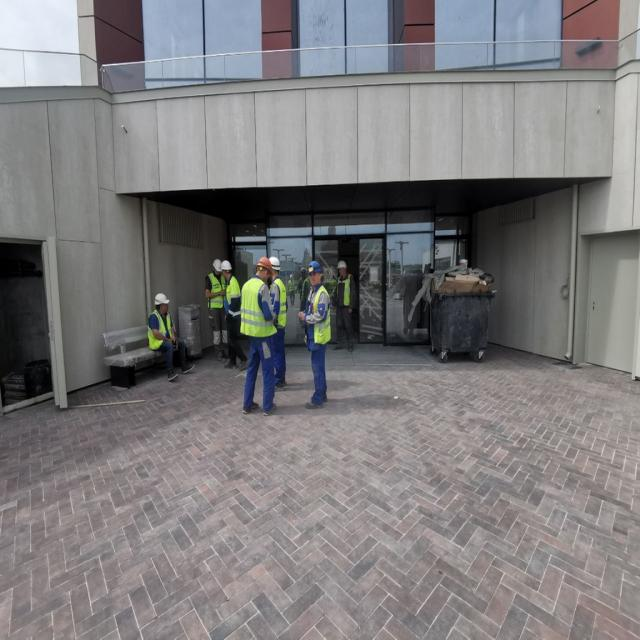Helmet: (256, 258, 274, 277), (308, 262, 324, 280), (155, 294, 171, 309), (269, 257, 282, 274), (222, 262, 234, 276), (213, 260, 224, 274), (338, 262, 348, 272), (290, 275, 294, 280)
Jacket: (242, 276, 274, 335), (307, 281, 331, 346), (149, 309, 175, 351), (224, 274, 241, 318), (275, 275, 288, 328), (336, 272, 354, 308), (209, 274, 226, 310)
